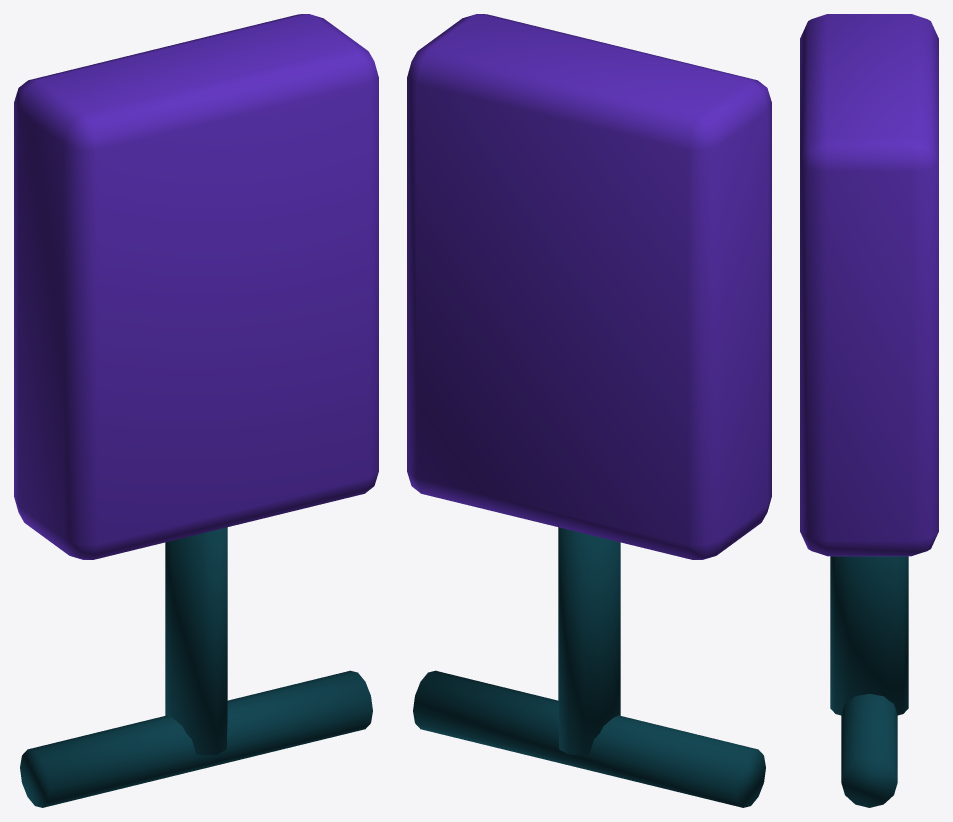
File: Gimmick_04.fbx
The picture shows the model from 3 angles, left to right: view 1: azimuth 30°, elevation 25°; view 2: azimuth 150°, elevation 25°; view 3: azimuth 270°, elevation 25°; orthographic projection. The views are drawn at different scales.
Parts seen in each view (by area): view 1: Cube.006; view 2: Cube.006; view 3: Cube.006.
Part boxes in pixels (<box>): Cube.006: <box>14,14,378,807</box>; Cube.006: <box>407,14,771,807</box>; Cube.006: <box>800,14,938,807</box>.
Size of the model in its own units: 0.7524 by 1.57 by 0.2994.
